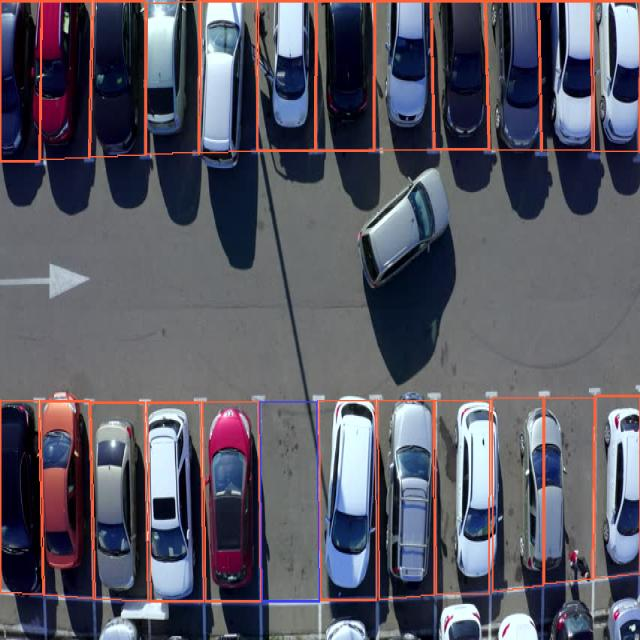space-empty: (256, 398, 322, 602), (552, 397, 603, 580)
space-occupied: (377, 396, 444, 601), (317, 393, 382, 600), (198, 401, 262, 603), (440, 398, 505, 594), (140, 398, 203, 598), (507, 396, 573, 585), (35, 402, 96, 598), (90, 403, 147, 595), (254, 1, 322, 150), (138, 3, 202, 153), (588, 394, 639, 582), (35, 0, 93, 160), (431, 1, 491, 150), (486, 1, 545, 150), (318, 0, 375, 148), (379, 1, 435, 150), (0, 403, 43, 597), (198, 4, 254, 152), (590, 1, 640, 150), (96, 4, 145, 155), (545, 3, 595, 150), (0, 7, 39, 162)
